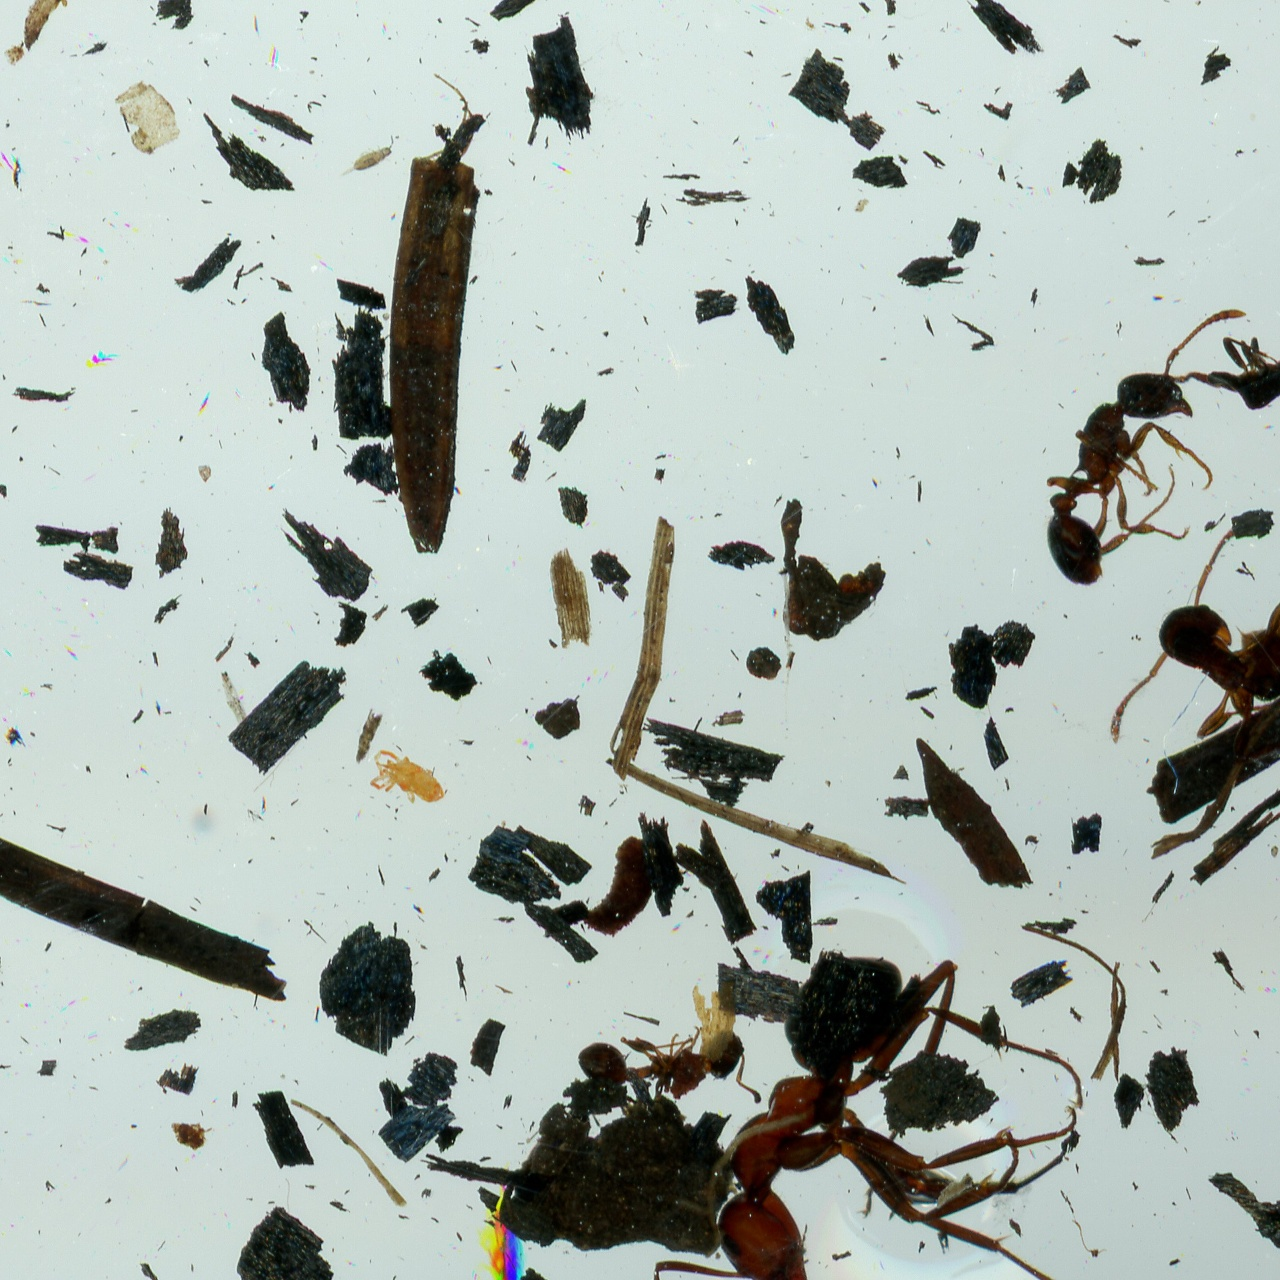arthropod: (642, 948, 1110, 1280), (1039, 292, 1258, 601), (1101, 529, 1280, 768), (574, 1021, 764, 1114), (358, 738, 457, 822), (1207, 319, 1280, 413), (471, 1180, 530, 1280), (328, 130, 406, 190)
